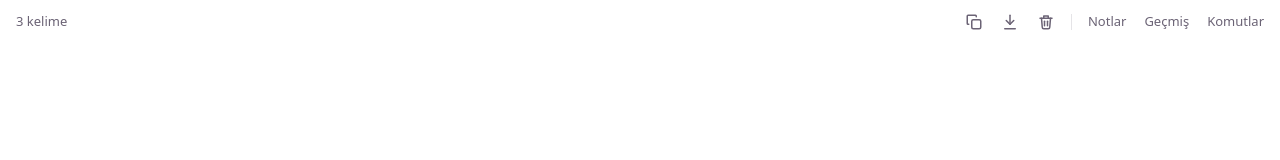
it: araç satırı › indirme menüsü › dışarı tıklayınca kapanır
What coordinates should you click on to do the following:
click the button named "İndir"
I would click on:
 (1010, 22)
Its box is [993,6,1027,38].
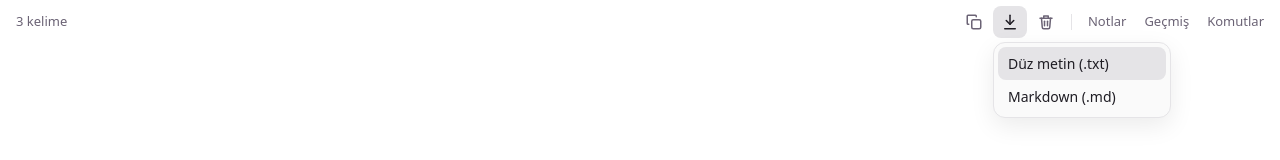
Expected: the menu is shown, [993,42,1171,118]
What coordinates should you click on to do the following:
click the element that starts with "3 kelime"
I would click on:
 (42, 21)
Its box is [0,6,1279,38].
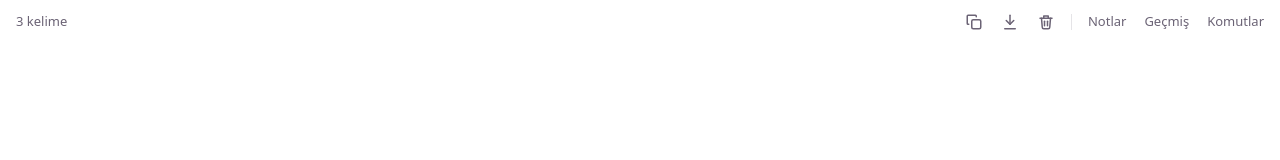
Expected: the menu is gone
